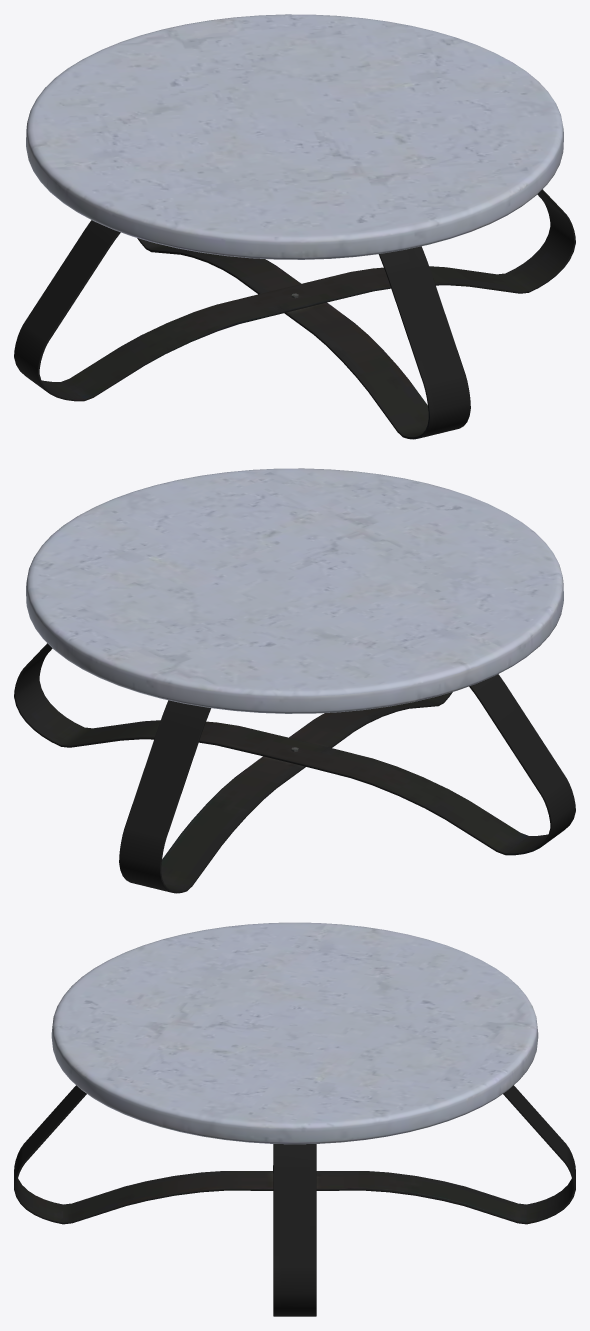
File: coffee_table_round_01.glb
3 views of the same model, one above another, from view 1: azimuth 30°, elevation 25°; view 2: azimuth 150°, elevation 25°; view 3: azimuth 270°, elevation 25° (orthographic). The views are drawn at different scales.
Visible parts, largest first — view 1: coffee_table_round_01; view 2: coffee_table_round_01; view 3: coffee_table_round_01.
Boxes of the visible parts, <box> form: coffee_table_round_01: <box>14,14,575,439</box>; coffee_table_round_01: <box>14,468,575,893</box>; coffee_table_round_01: <box>14,922,575,1316</box>.
Bounding box in the file's own units: 1.3 × 0.4911 × 1.3.
1 material, 1 textured.
